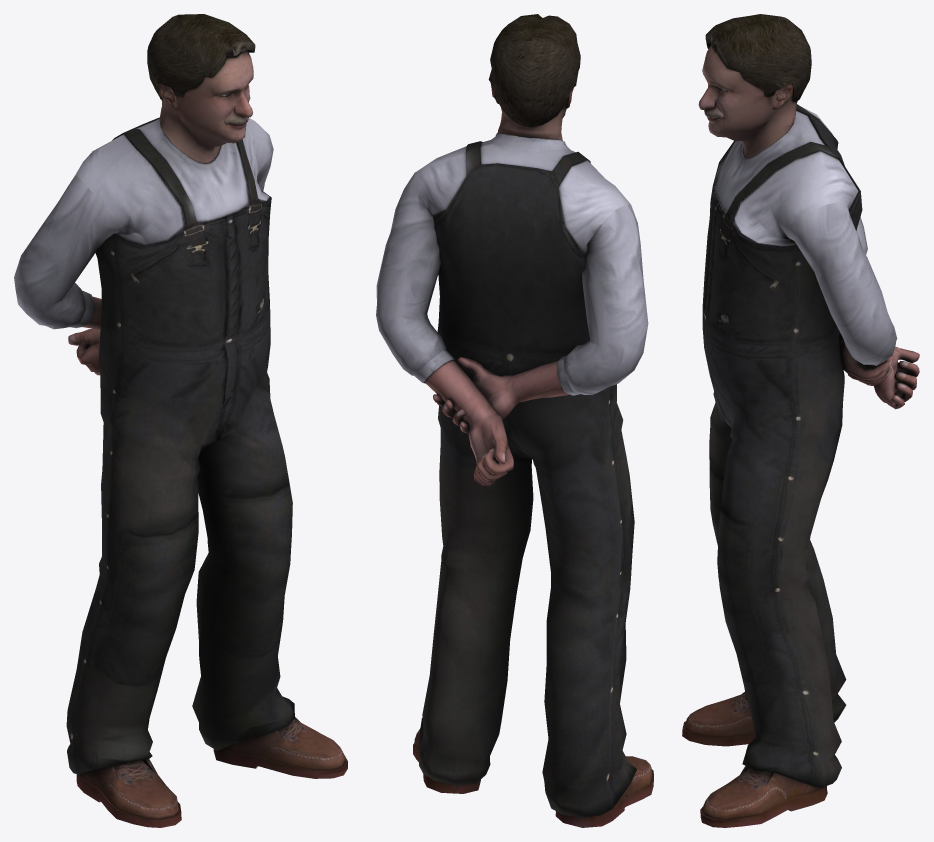
The model's file is SWRK01_04_01.FBX.
3 views of the same model, side by side, from view 1: azimuth 30°, elevation 25°; view 2: azimuth 150°, elevation 25°; view 3: azimuth 270°, elevation 25° (orthographic).
Parts seen in each view (by area): view 1: SWRK01_04_01; view 2: SWRK01_04_01; view 3: SWRK01_04_01.
Boxes of the visible parts, x1,y1,x2,y2 form: SWRK01_04_01: [14, 14, 347, 827]; SWRK01_04_01: [376, 14, 653, 827]; SWRK01_04_01: [682, 14, 919, 827].
Size of the model in its own units: 25.62 by 68.85 by 19.81.
1 material, 1 textured.
